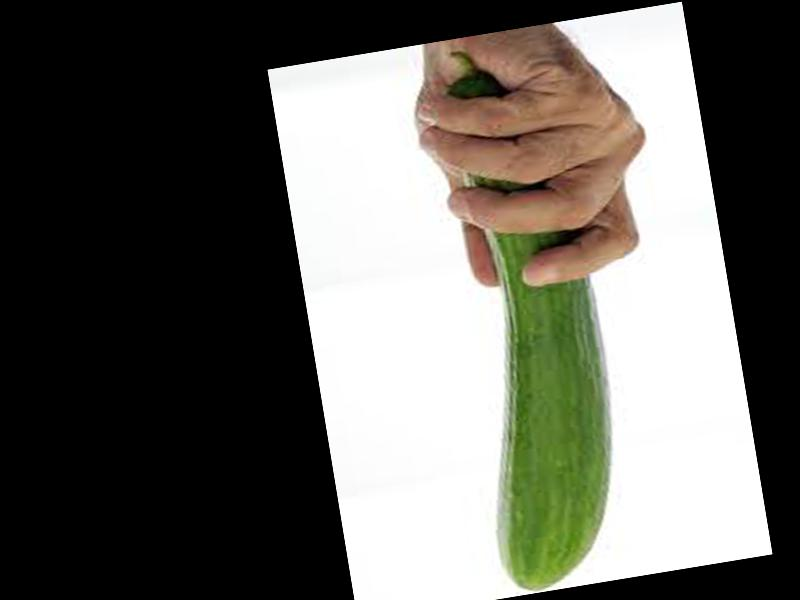Cucumber: (416, 38, 638, 598)
